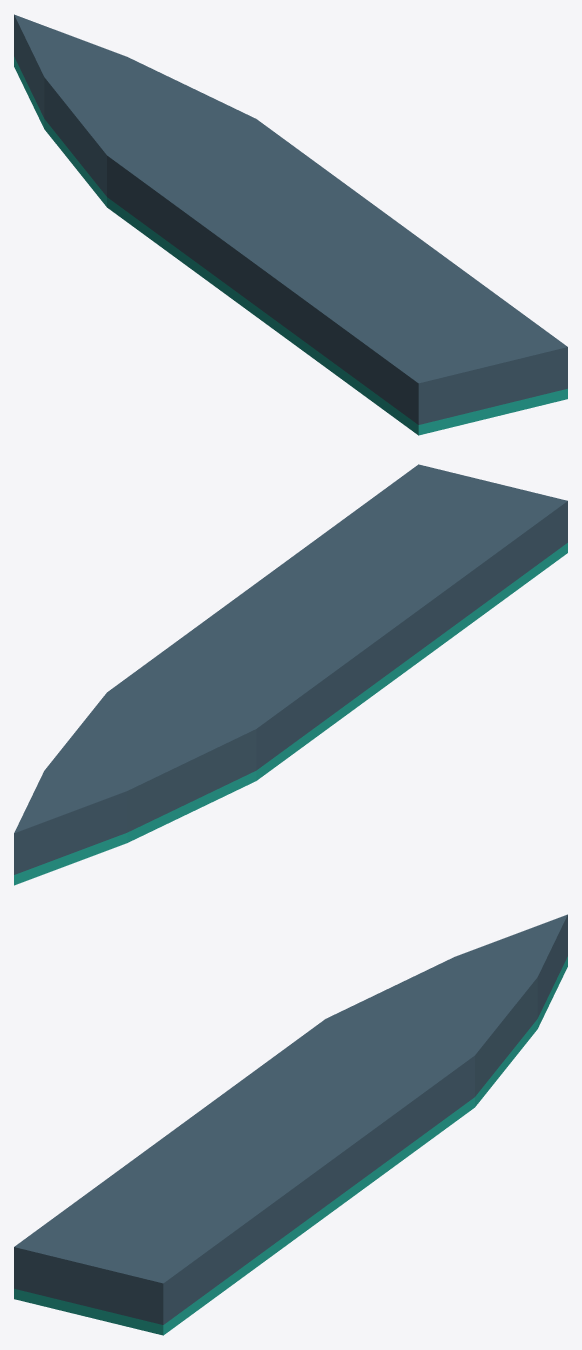
Rendered from plain.glb.
The picture shows the model from 3 angles, top to bottom: view 1: azimuth 30°, elevation 25°; view 2: azimuth 150°, elevation 25°; view 3: azimuth 330°, elevation 25°; orthographic projection.
Visible parts, largest first — view 1: lod0; view 2: lod0; view 3: lod0.
Part boxes in pixels (<box>): lod0: <box>14,14,567,435</box>; lod0: <box>14,464,567,885</box>; lod0: <box>14,914,567,1335</box>.
Size of what is drawn, in the model's own units: 0.18 by 0.06 by 1.
